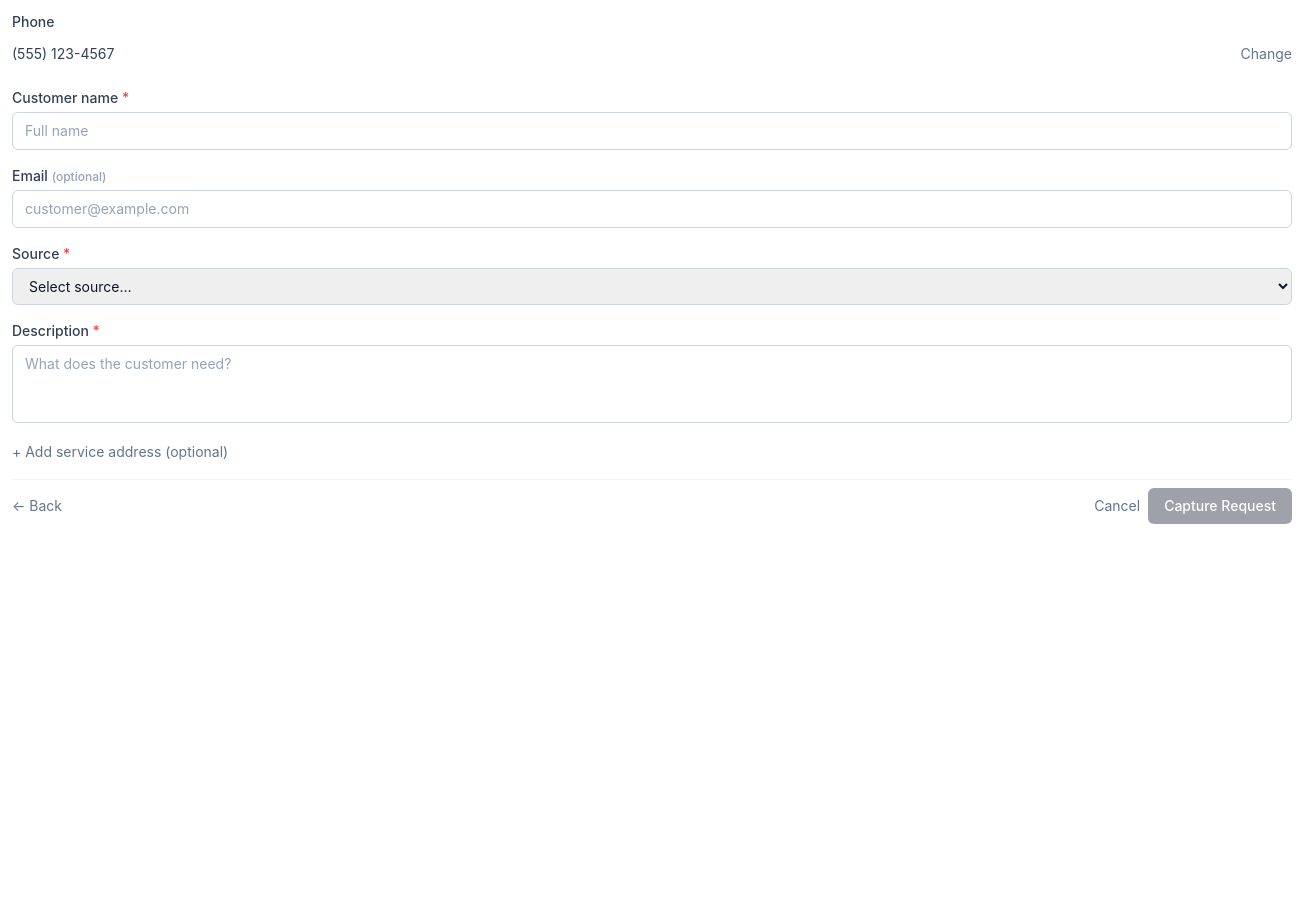
Test: CaptureForm address disclosure validation › does not submit and shows field errors when the disclosure is open but incomplete
Type "Jane Doe" into the field labelled "Customer name *" at (652, 131), box x1=12 y1=112 x2=1292 y2=150
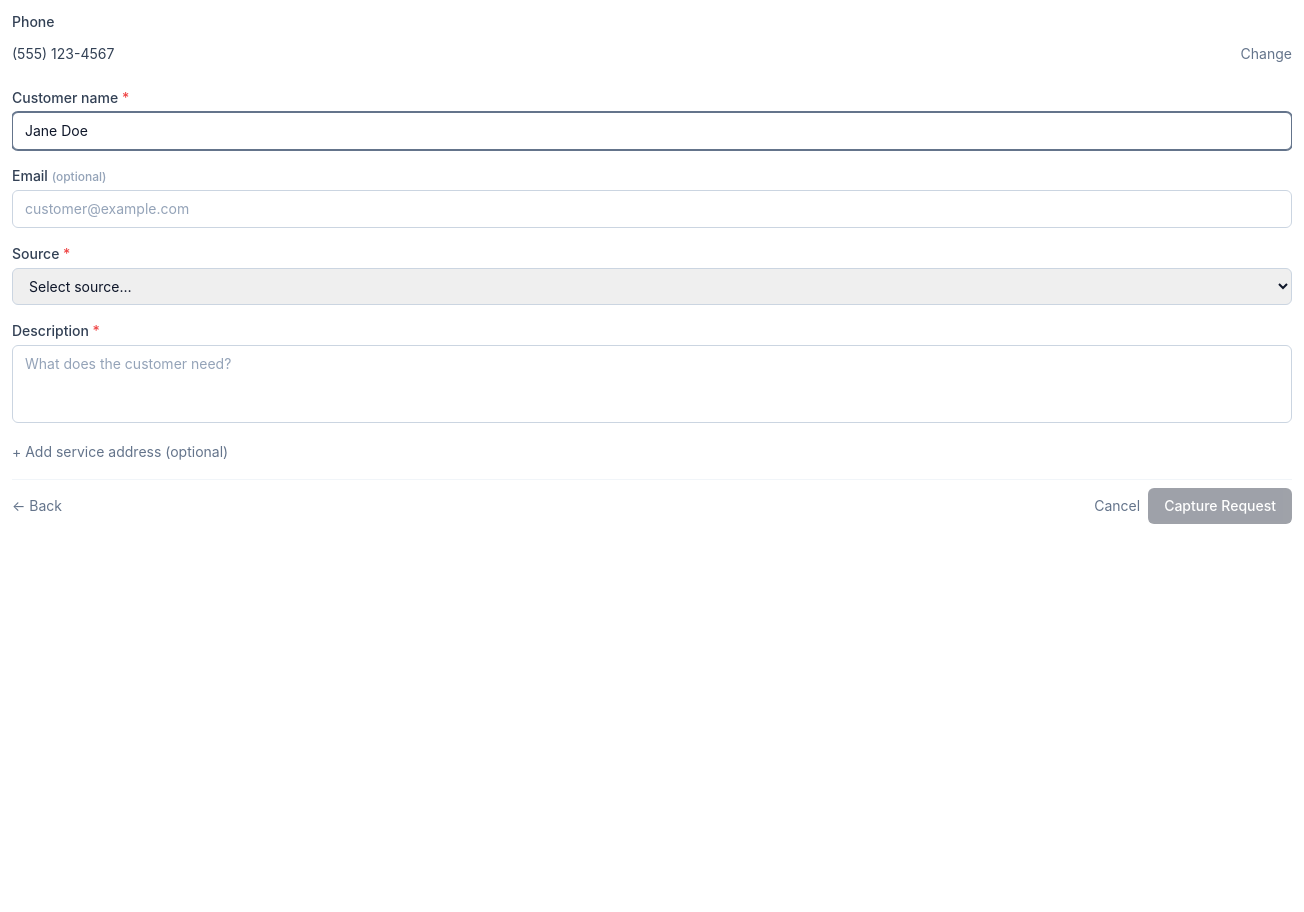
Type "Needs an estimate" into the text box labelled "Description *" at (652, 384), box x1=12 y1=345 x2=1292 y2=423
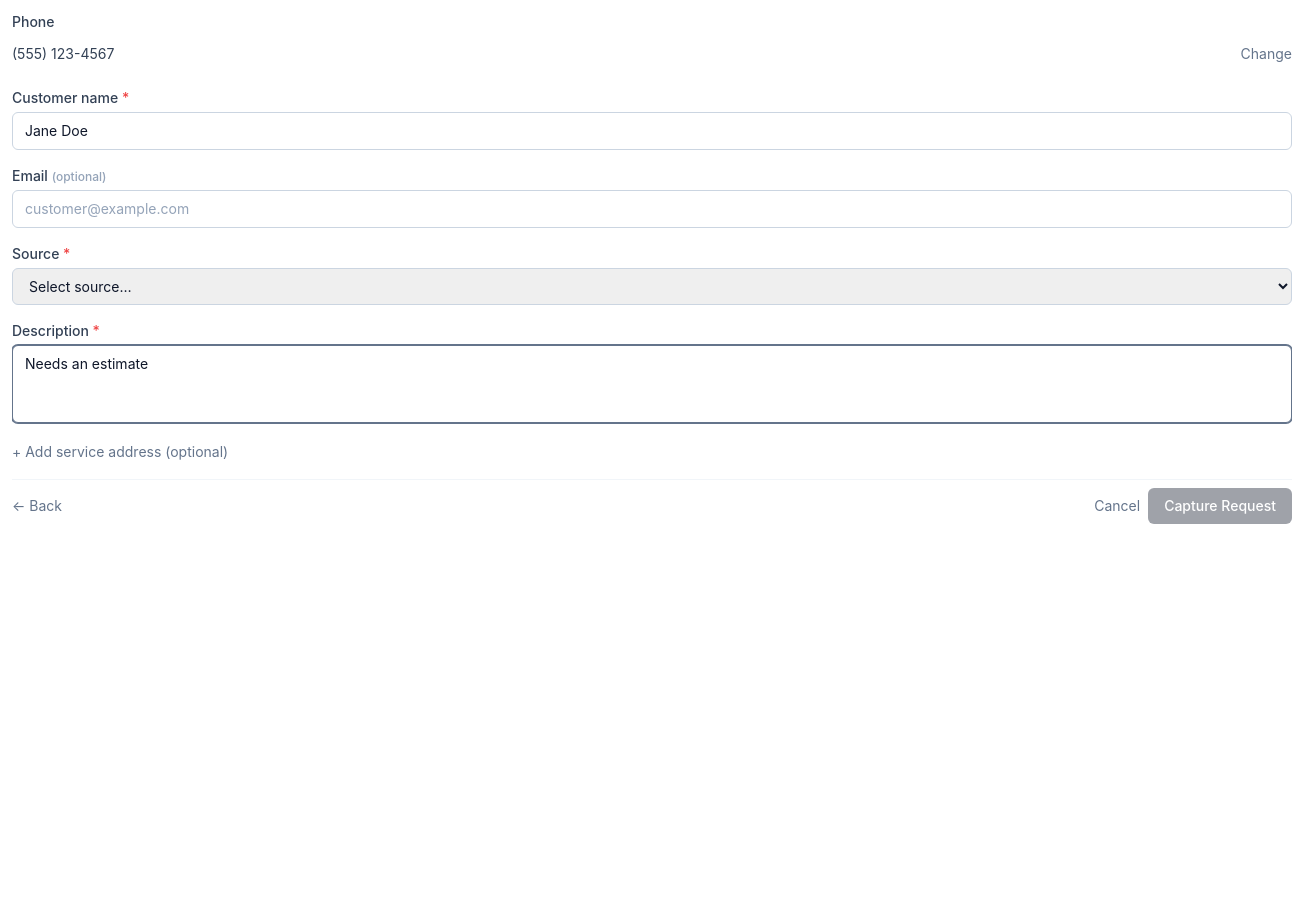
Select "Phone Call" in the dropdown labelled "Source *" at (652, 286), box x1=12 y1=268 x2=1292 y2=305
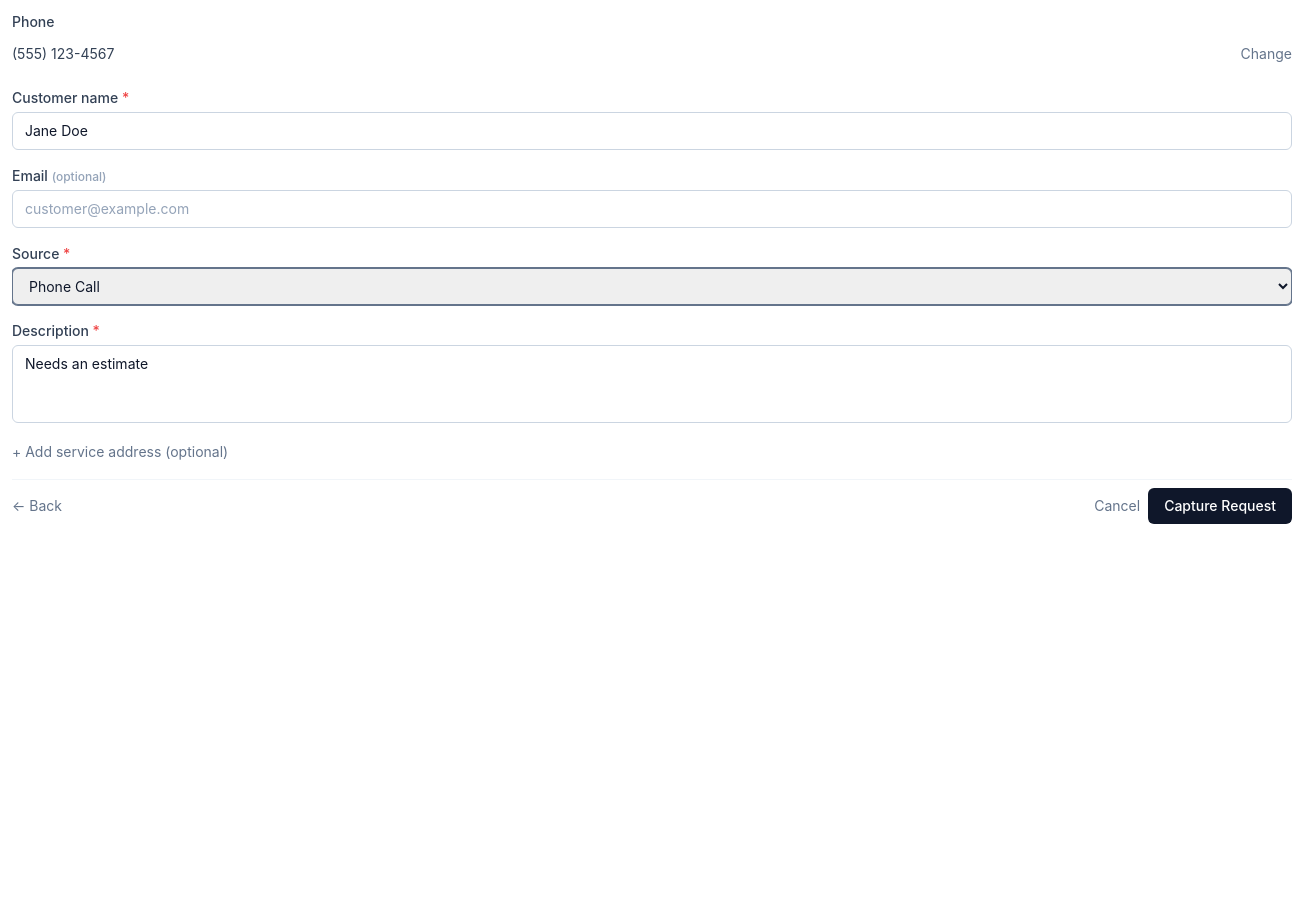
Click the button "+ Add service address (optional)" at (120, 452), box x1=12 y1=442 x2=228 y2=462
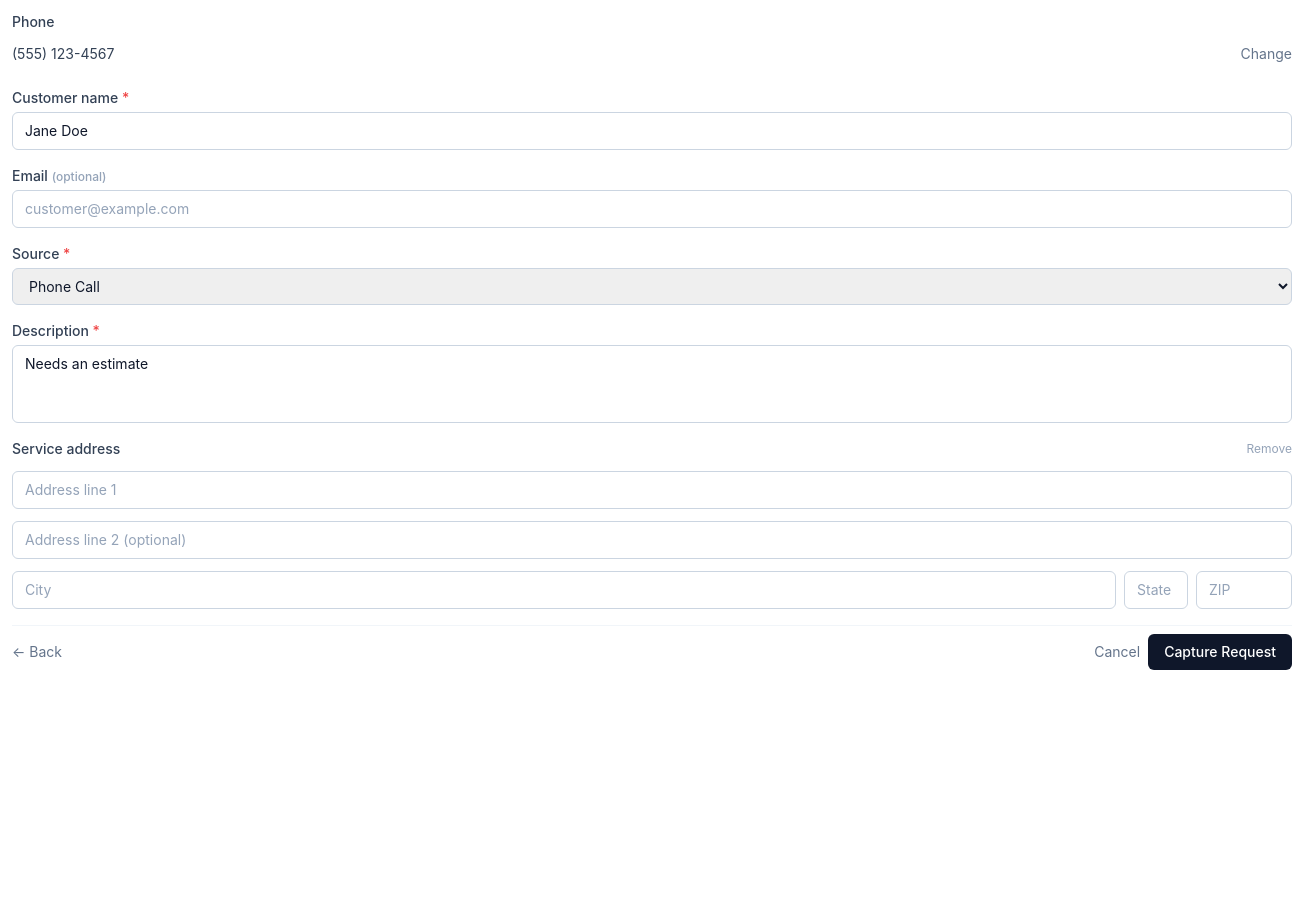
Type "Springfield" into the field with placeholder "City" at (564, 590), box x1=12 y1=571 x2=1116 y2=609
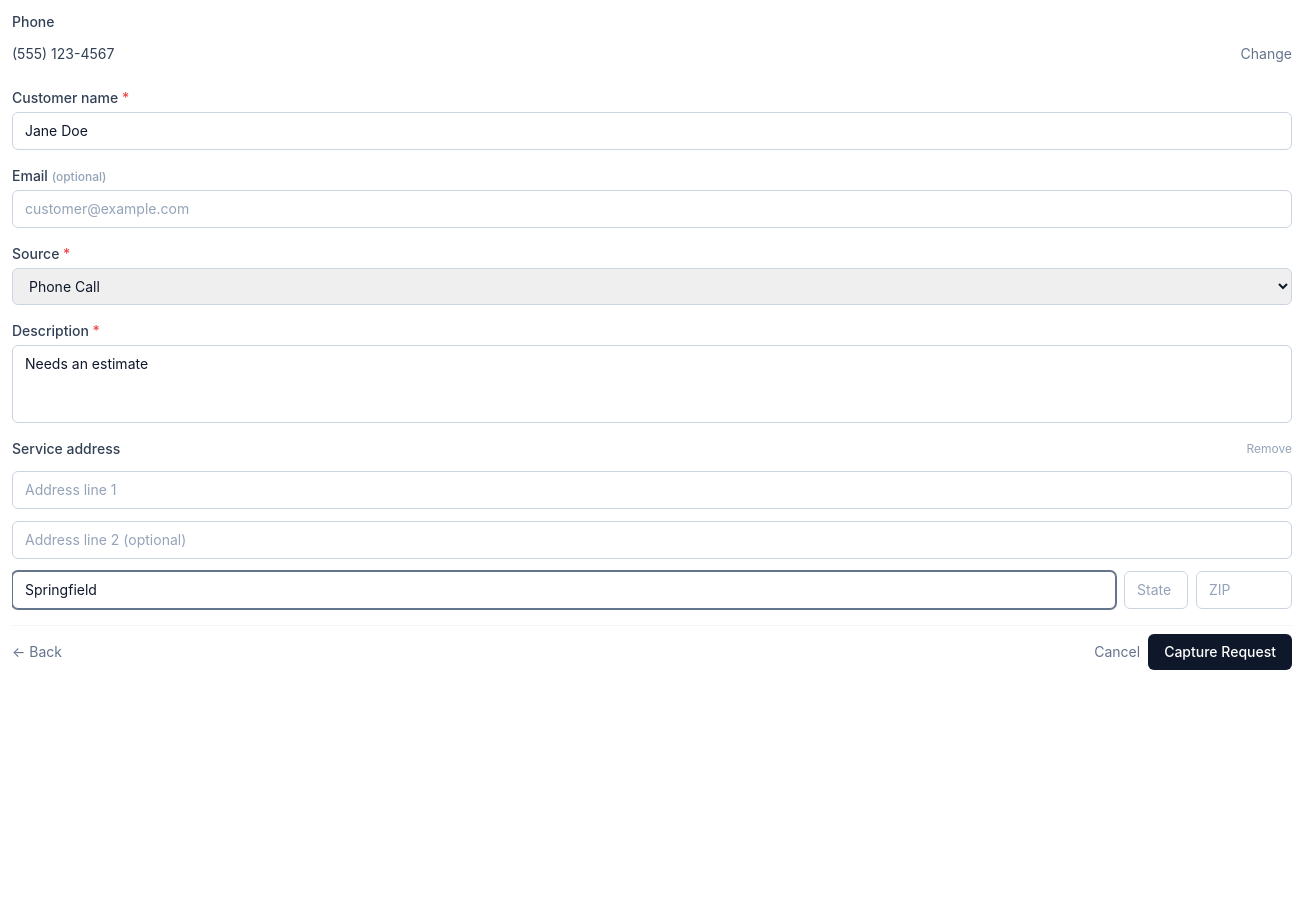
Click the button "Capture Request" at (1220, 652), box x1=1148 y1=634 x2=1292 y2=670
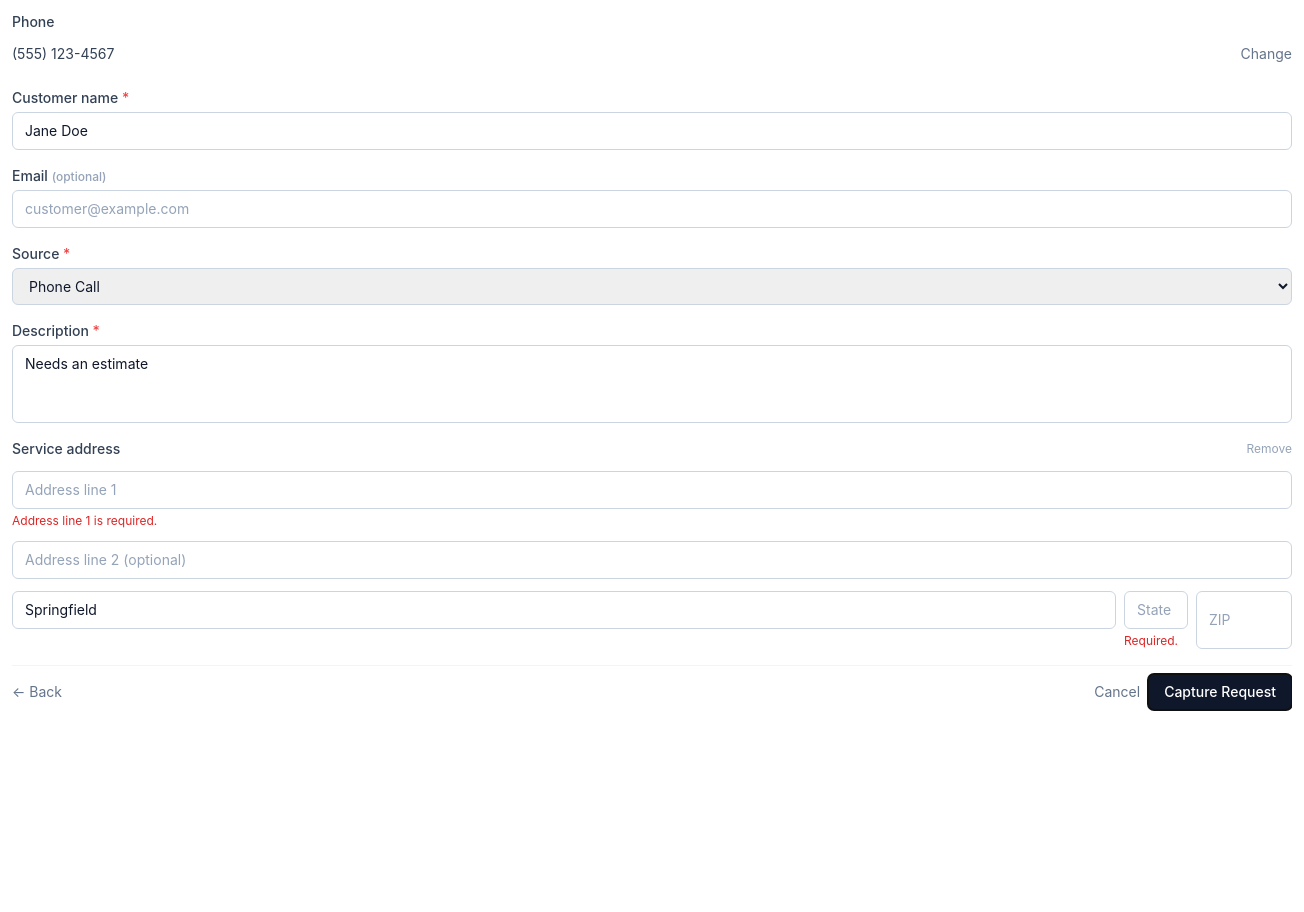
Check: the text "Address line 1 is required." is shown, box x1=12 y1=513 x2=157 y2=528
